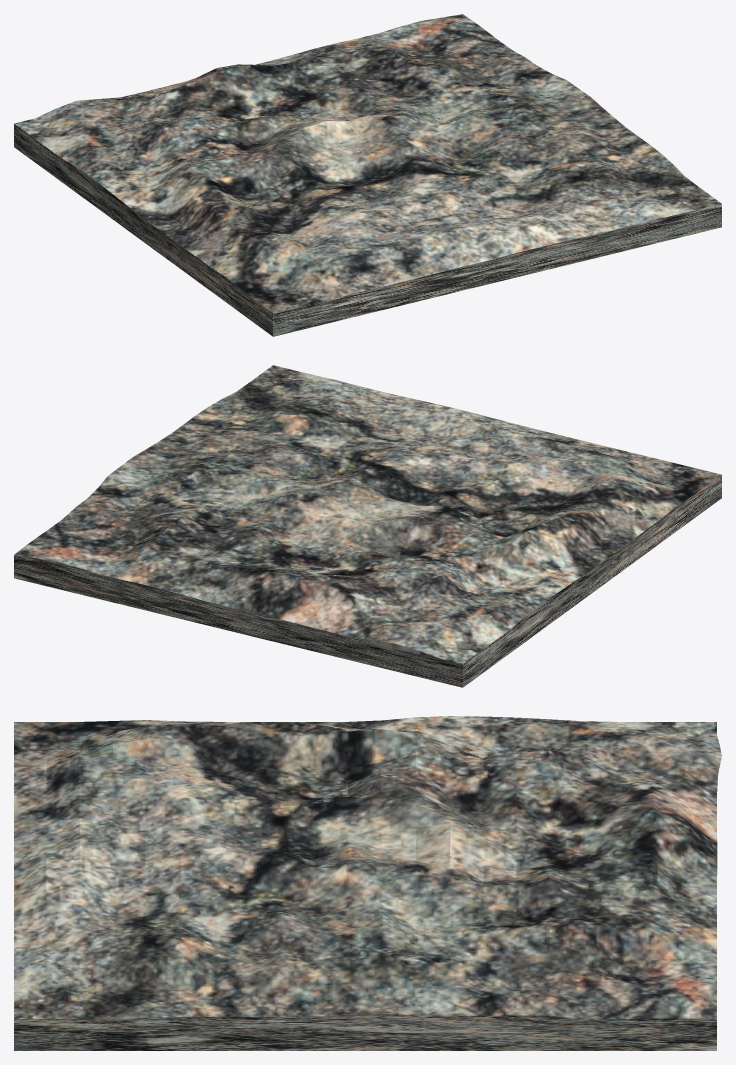
Rendered from gravel.gltf.
3 views of the same model, one above another, from view 1: azimuth 30°, elevation 25°; view 2: azimuth 150°, elevation 25°; view 3: azimuth 270°, elevation 25° (orthographic). The views are drawn at different scales.
Visible parts, largest first — view 1: Cube.001; view 2: Cube.001; view 3: Cube.001.
Part boxes in pixels (x1,y1,x2,y2): Cube.001: (14, 14, 721, 336); Cube.001: (14, 365, 721, 687); Cube.001: (14, 716, 721, 1050).
Bounding box in the file's own units: 2.03 × 0.2086 × 2.01.
Materials: 1 (1 with a texture image).
